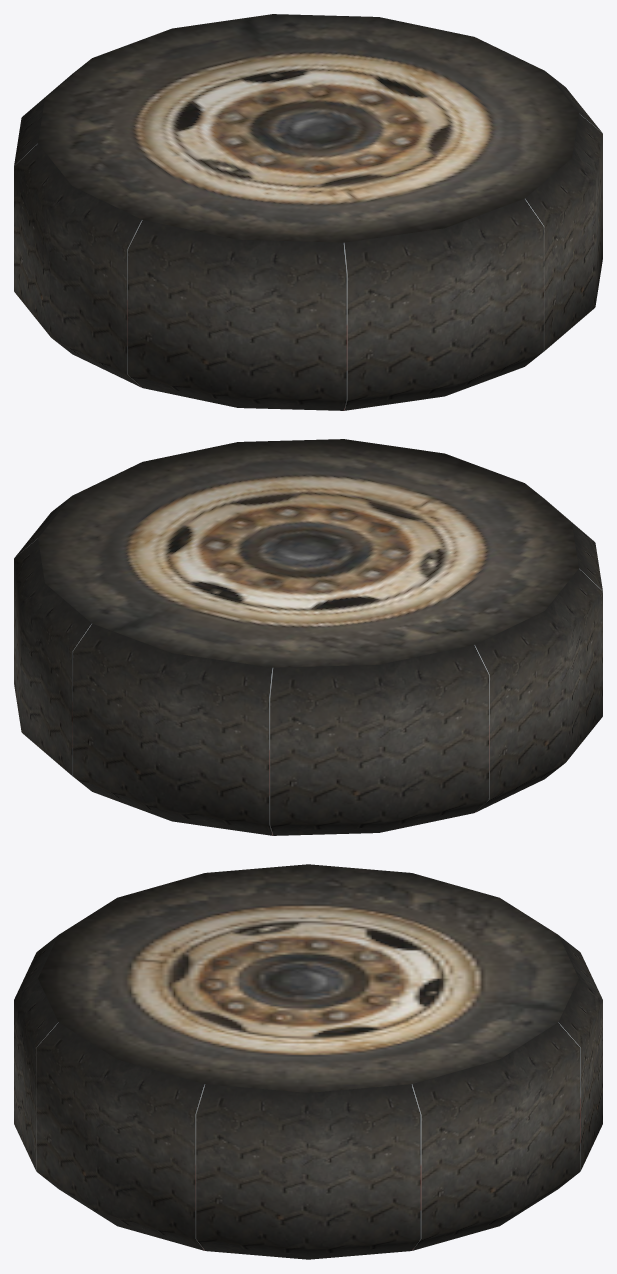
The model's file is Wheel.fbx.
The picture shows the model from 3 angles, top to bottom: view 1: azimuth 30°, elevation 25°; view 2: azimuth 150°, elevation 25°; view 3: azimuth 270°, elevation 25°; orthographic projection.
Parts seen in each view (by area): view 1: Wheel; view 2: Wheel; view 3: Wheel.
Boxes of the visible parts, x1,y1,x2,y2 form: Wheel: [14, 14, 602, 410]; Wheel: [14, 439, 602, 835]; Wheel: [14, 864, 602, 1259].
Bounding box in the file's own units: 80 × 25 × 80.
1 material, 1 textured.
